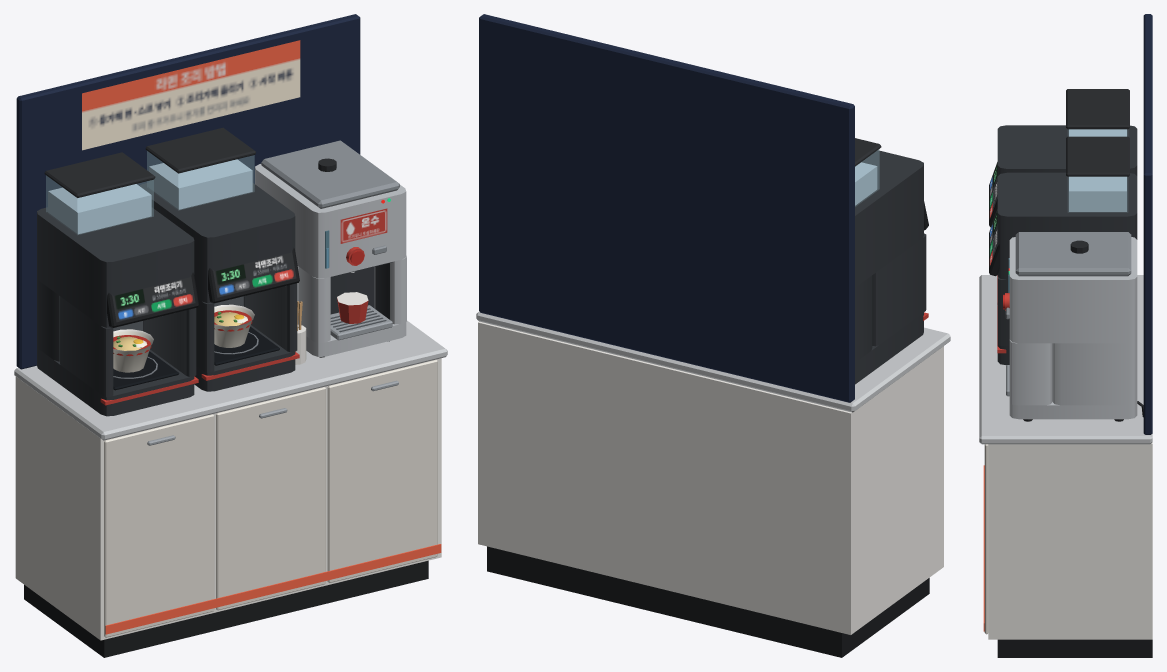
Rendered from SC_Fix_Ramen_Station.gltf.
The picture shows the model from 3 angles, left to right: view 1: azimuth 30°, elevation 25°; view 2: azimuth 150°, elevation 25°; view 3: azimuth 270°, elevation 25°; orthographic projection. The views are drawn at different scales.
Visible parts, largest first — view 1: SC_Fix_Ramen_Station; view 2: SC_Fix_Ramen_Station; view 3: SC_Fix_Ramen_Station.
Boxes of the visible parts, x1,y1,x2,y2 form: SC_Fix_Ramen_Station: (14,14,447,657); SC_Fix_Ramen_Station: (476,14,950,657); SC_Fix_Ramen_Station: (979,14,1152,657).
Bounding box in the file's own units: 1.27 × 1.77 × 0.57.
5 materials, 5 textured.
